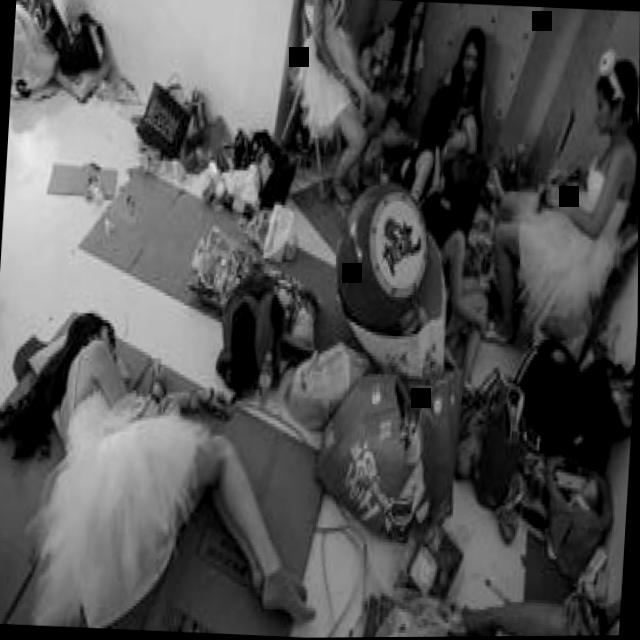Fall-Detected: (0, 281, 341, 640)
